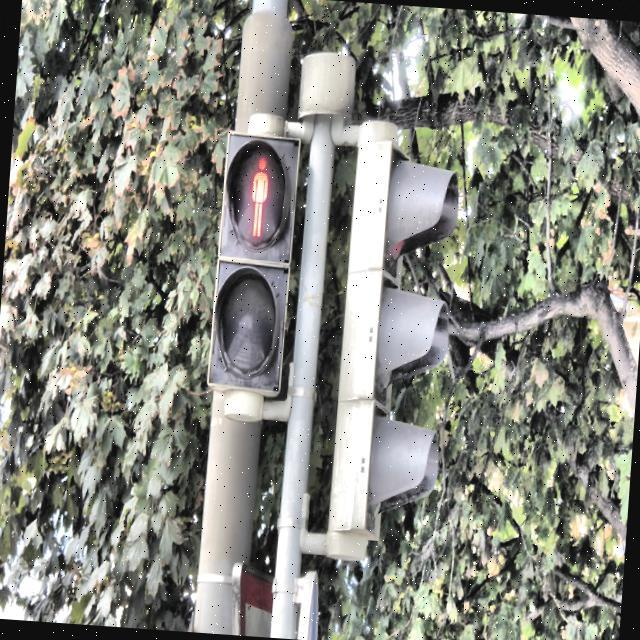red_light: (246, 154, 272, 240)
